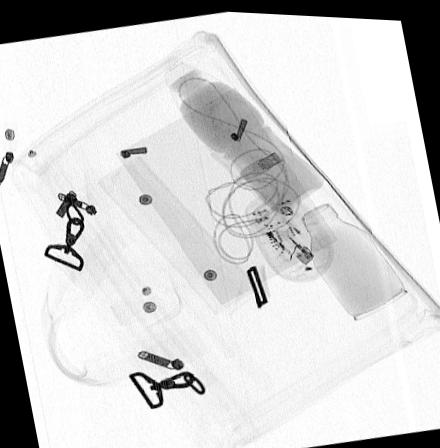Lighter: (251, 201, 315, 265)
